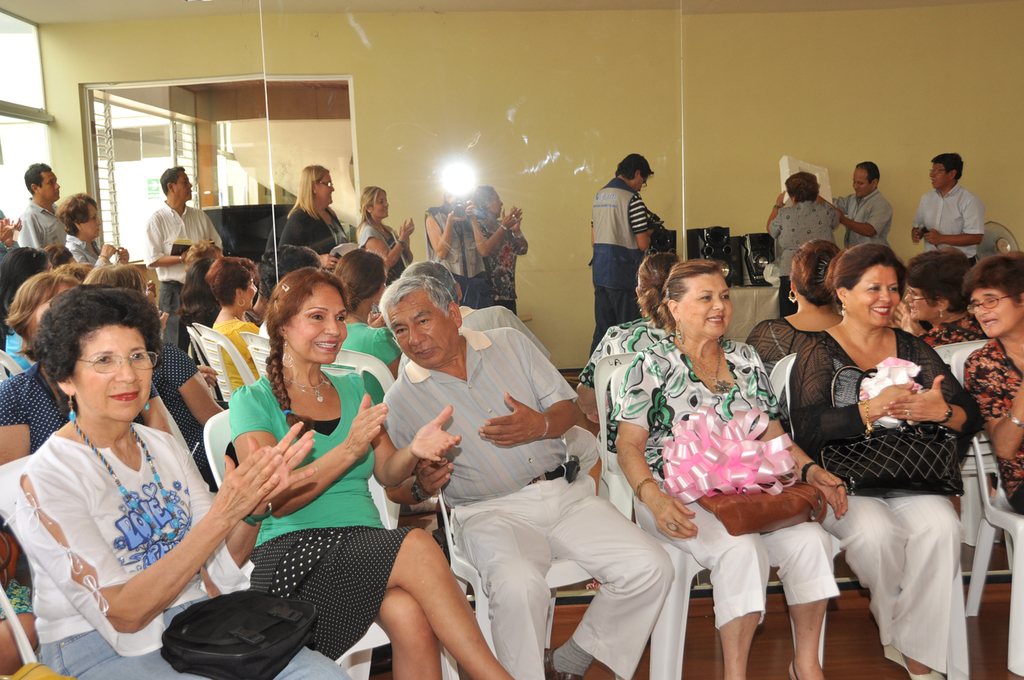Footwear: (546, 640, 585, 679)
